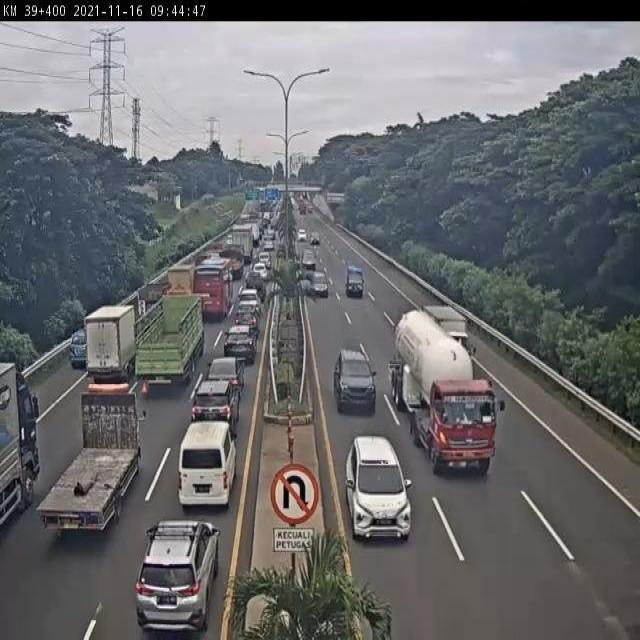Bus: (194, 257, 233, 317)
Car: (134, 519, 221, 631), (346, 435, 414, 544), (190, 376, 242, 434), (333, 348, 376, 415), (222, 326, 258, 366), (207, 356, 244, 394), (68, 330, 86, 370), (345, 265, 365, 298), (308, 271, 328, 298), (301, 250, 316, 270), (297, 228, 307, 242), (310, 232, 320, 245)
Truck: (389, 308, 502, 476), (39, 384, 144, 534), (0, 362, 43, 528), (134, 292, 204, 386), (84, 303, 136, 377), (232, 224, 254, 266)
Van: (177, 416, 238, 507)
